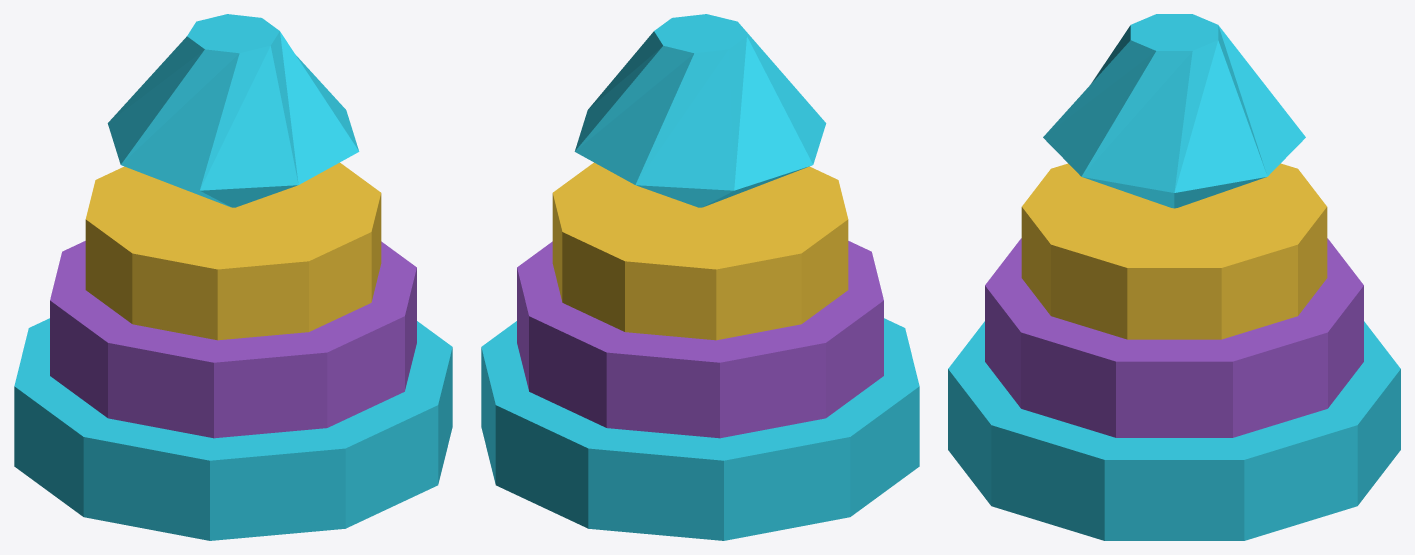
The model's file is layered_crystal.glb.
3 renders of one model, left to right at view 1: azimuth 30°, elevation 25°; view 2: azimuth 150°, elevation 25°; view 3: azimuth 270°, elevation 25°, orthographic.
Visible parts, largest first — view 1: layered_crystal; view 2: layered_crystal; view 3: layered_crystal.
Part boxes in pixels (bbox=[...]): layered_crystal: bbox=[14, 14, 452, 540]; layered_crystal: bbox=[481, 14, 919, 540]; layered_crystal: bbox=[948, 14, 1400, 540].
Bounding box in the file's own units: 1.64 × 1.75 × 1.72.
